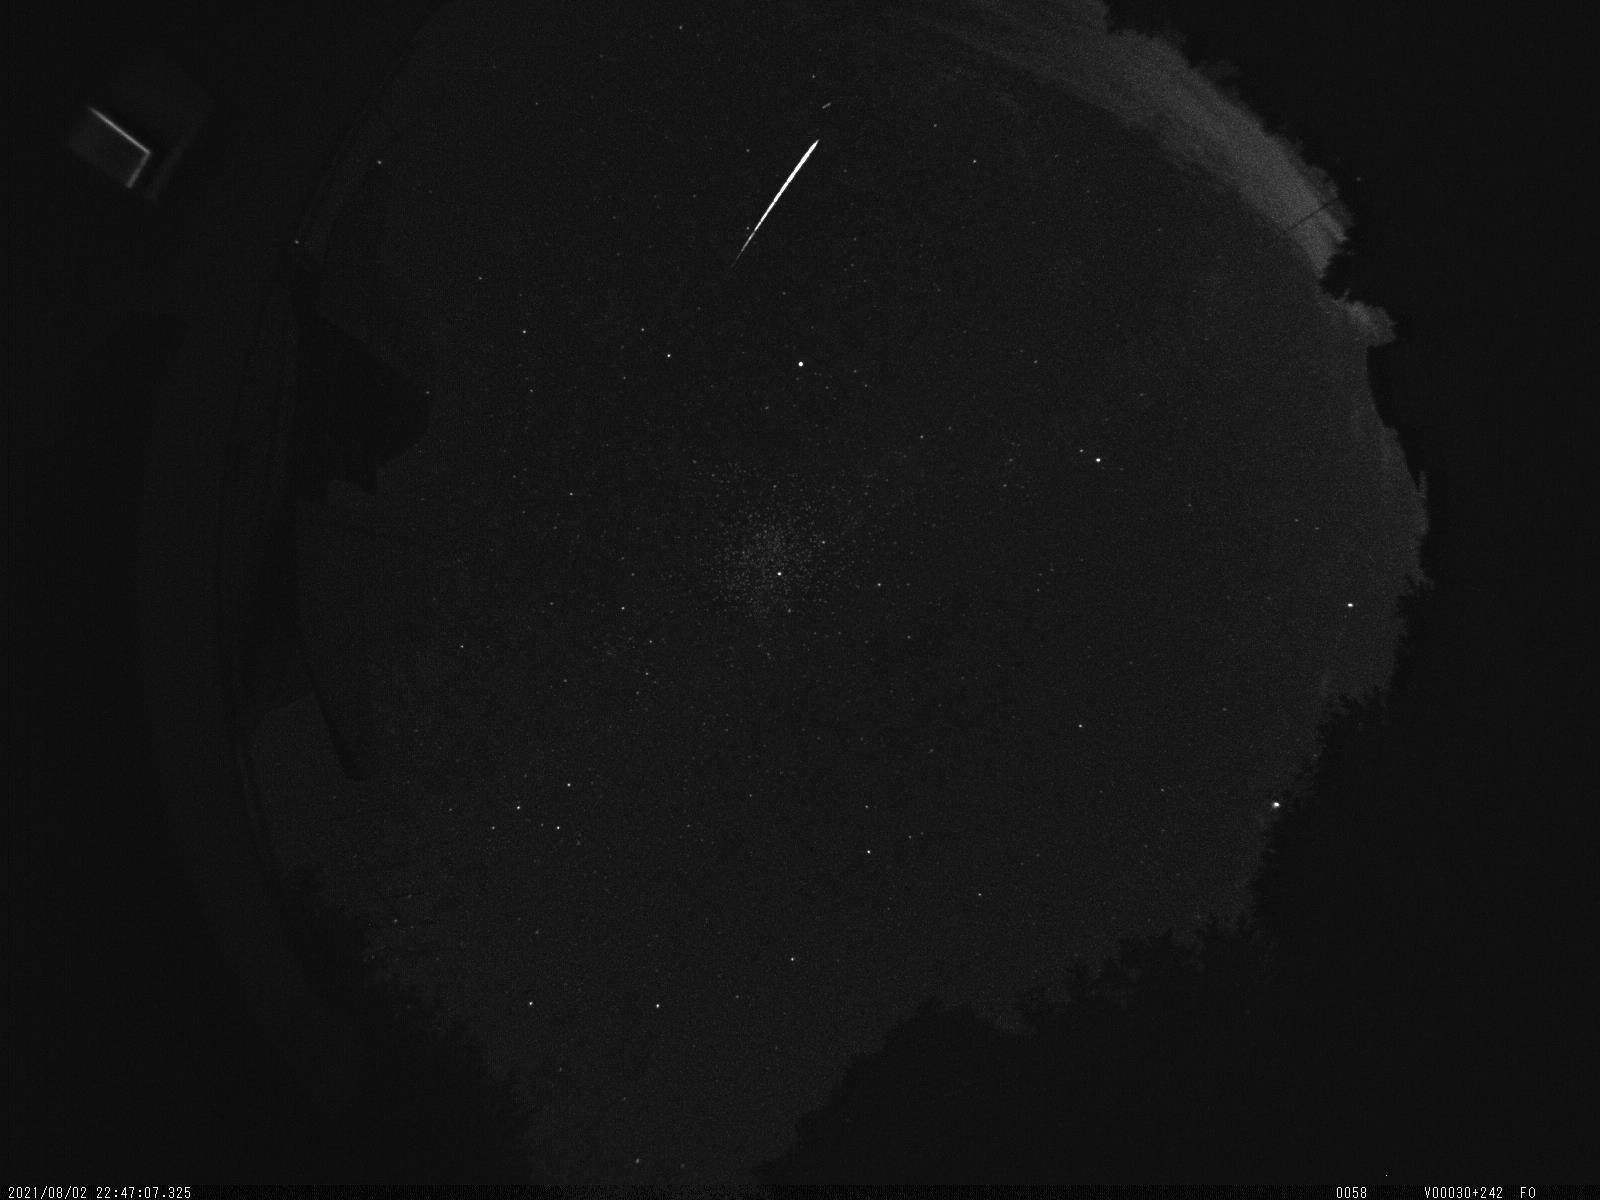Meteor: (716, 122, 830, 281)
